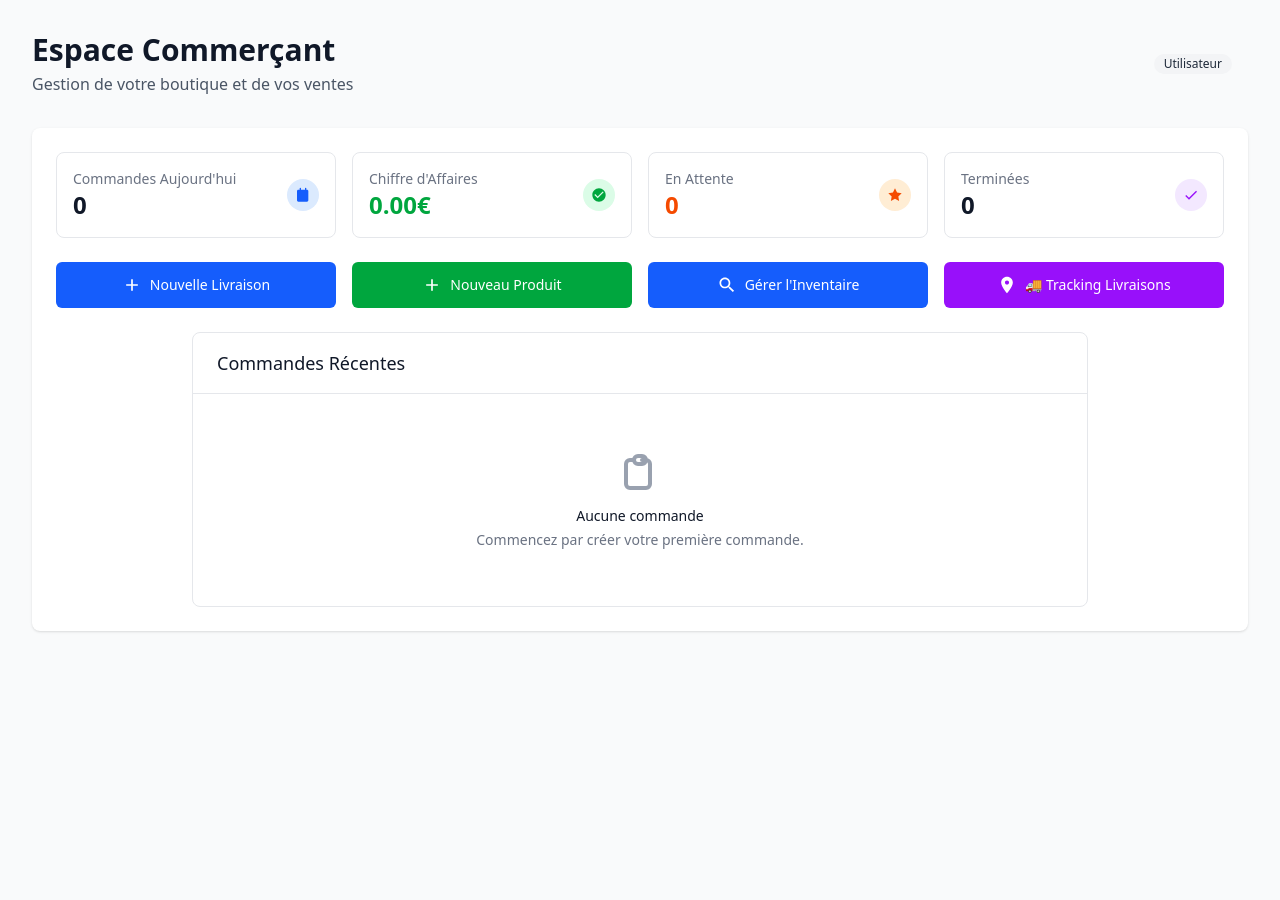
Test: MerchantDashboard › Order creation modal › should open modal when "Nouvelle Livraison" button is clicked
Click the button "Nouvelle Livraison": {"x": 196, "y": 285} [56, 262, 336, 308]
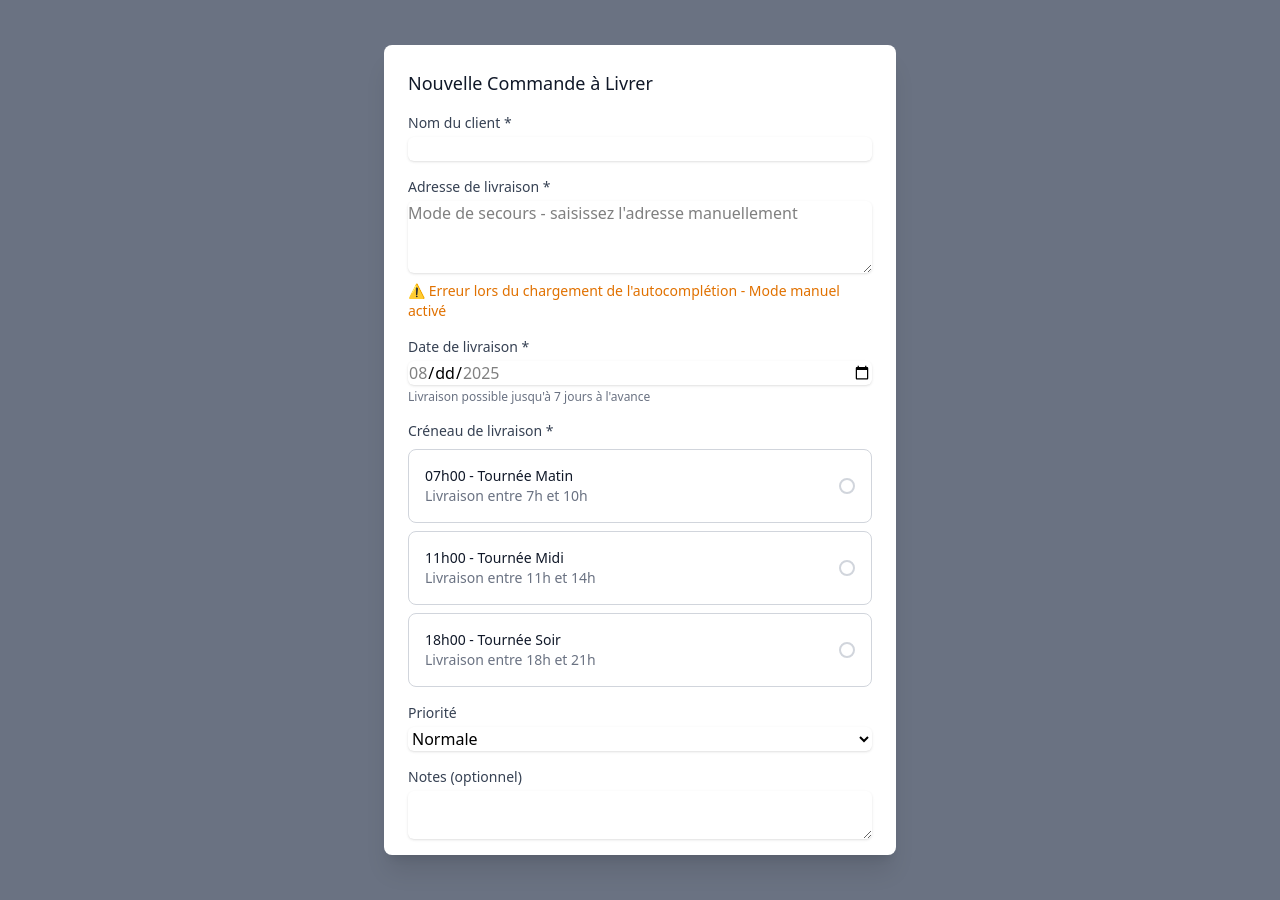
Expected: the heading "Nouvelle Commande à Livrer" is shown, [408, 71, 653, 95]
